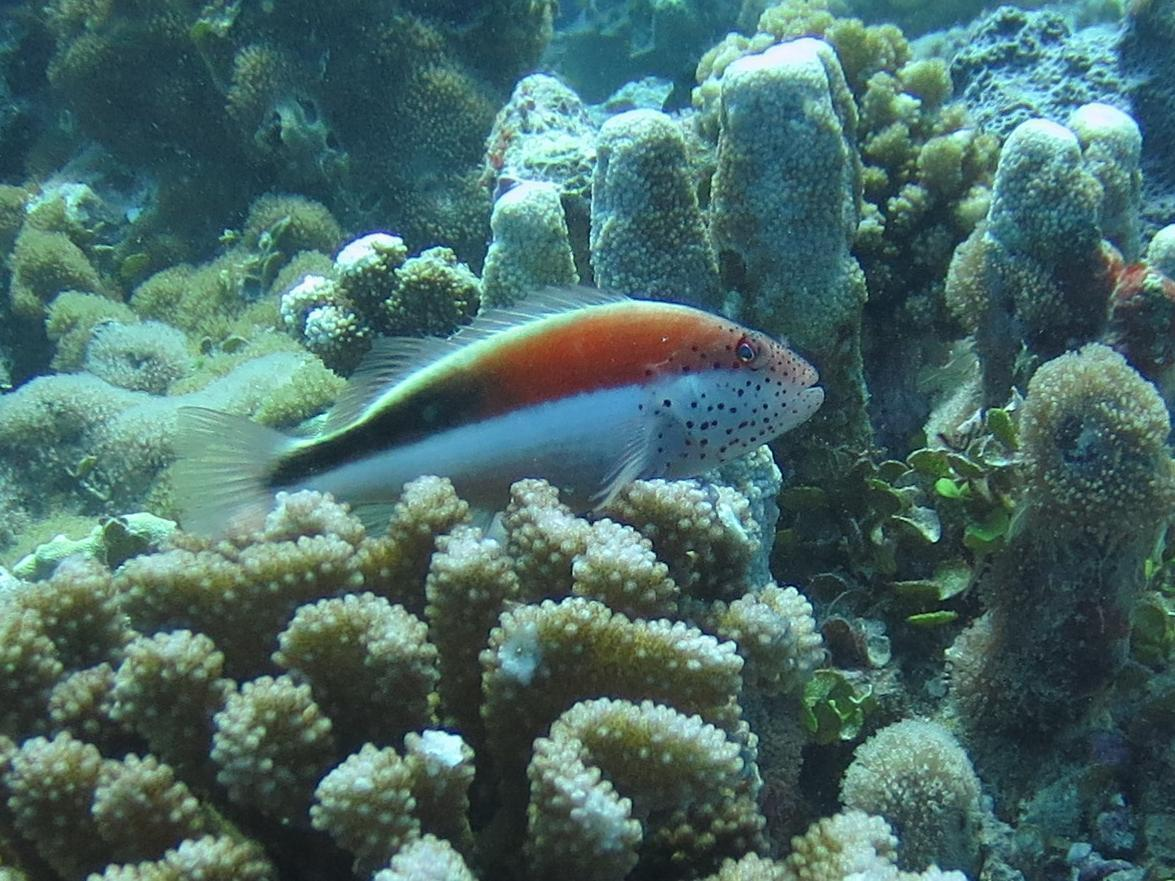Fish: (166, 272, 830, 554)
